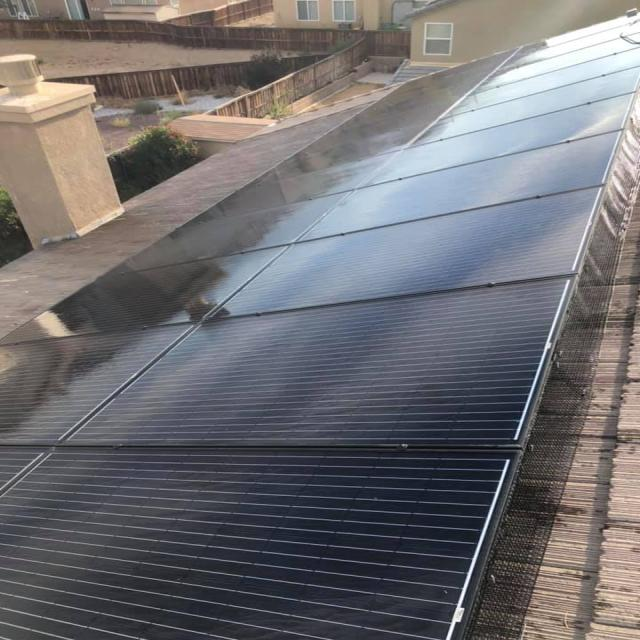clean-solar-panel: (3, 18, 638, 640)
